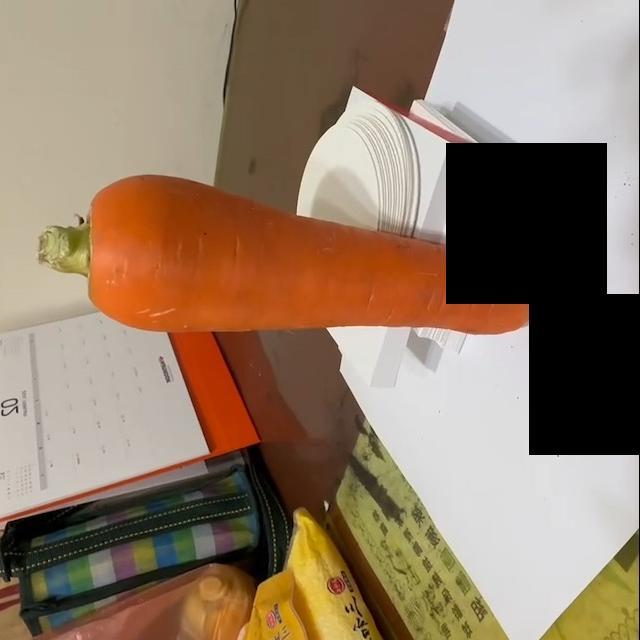carrot: (40, 174, 541, 346)
